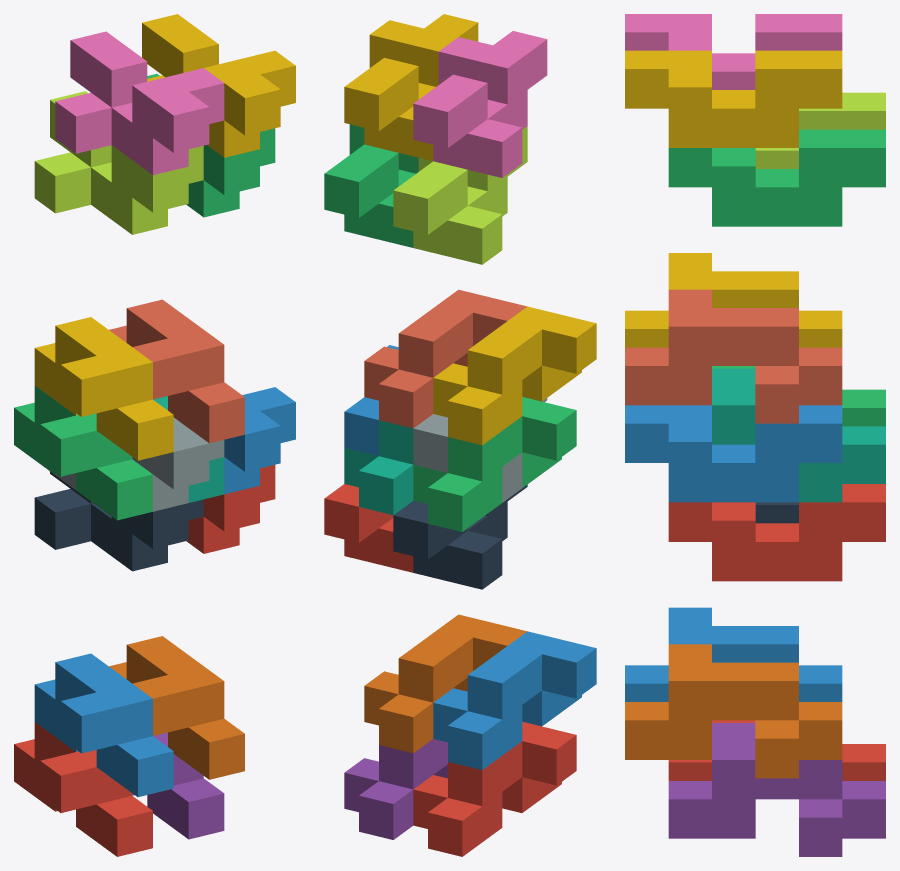
Rendered from tiling.obj.
The picture shows the model from 3 angles, left to right: view 1: azimuth 30°, elevation 25°; view 2: azimuth 150°, elevation 25°; view 3: azimuth 270°, elevation 25°; orthographic projection. The views are drawn at different scales.
Visible parts, largest first — view 1: copy_2_domain_4, copy_1_domain_2, copy_1_domain_4, copy_2_domain_8, copy_1_domain_6, copy_1_domain_8, copy_2_domain_3, copy_1_domain_1, copy_1_domain_3, copy_2_domain_1, copy_2_domain_6, copy_2_domain_7 (+4 smaller); view 2: copy_2_domain_4, copy_1_domain_4, copy_1_domain_2, copy_1_domain_1, copy_1_domain_3, copy_2_domain_8, copy_1_domain_8, copy_1_domain_6, copy_2_domain_3, copy_2_domain_1, copy_2_domain_7, copy_1_domain_5 (+4 smaller); view 3: copy_1_domain_8, copy_1_domain_6, copy_2_domain_8, copy_2_domain_6, copy_1_domain_5, copy_2_domain_7, copy_2_domain_5, copy_1_domain_4, copy_1_domain_2, copy_2_domain_4, copy_1_domain_7, copy_2_domain_3 (+3 smaller).
Boxes of the visible parts, box(x1,y1,x2,y2) form: copy_2_domain_4: box(55, 31, 224, 175); copy_1_domain_2: box(34, 653, 173, 797); copy_1_domain_4: box(34, 317, 173, 460); copy_2_domain_8: box(142, 14, 295, 157); copy_1_domain_6: box(109, 636, 244, 779); copy_1_domain_8: box(109, 299, 244, 443); copy_2_domain_3: box(34, 91, 203, 234); copy_1_domain_1: box(14, 722, 152, 856); copy_1_domain_3: box(14, 385, 152, 520); copy_2_domain_1: box(34, 471, 203, 571); copy_2_domain_6: box(224, 387, 295, 494); copy_2_domain_7: box(147, 73, 275, 217); copy_2_domain_4: box(413, 31, 547, 177); copy_1_domain_4: box(433, 306, 596, 445); copy_1_domain_2: box(433, 631, 596, 769); copy_1_domain_1: box(413, 721, 576, 856); copy_1_domain_3: box(413, 397, 576, 531); copy_2_domain_8: box(344, 14, 478, 160); copy_1_domain_8: box(364, 289, 527, 428); copy_1_domain_6: box(364, 614, 526, 753); copy_2_domain_3: box(393, 126, 527, 264); copy_2_domain_1: box(393, 484, 527, 589); copy_2_domain_7: box(324, 124, 418, 247); copy_1_domain_5: box(344, 739, 447, 839); copy_1_domain_8: box(625, 289, 842, 423); copy_1_domain_6: box(625, 644, 842, 778); copy_2_domain_8: box(625, 50, 842, 147); copy_2_domain_6: box(625, 405, 842, 502); copy_1_domain_5: box(668, 723, 885, 856); copy_2_domain_7: box(668, 129, 885, 226); copy_2_domain_5: box(668, 484, 885, 581); copy_1_domain_4: box(625, 253, 842, 347); copy_1_domain_2: box(625, 607, 842, 701); copy_2_domain_4: box(625, 14, 842, 89); copy_1_domain_7: box(712, 368, 885, 502); copy_2_domain_3: box(755, 92, 885, 168).
Bounding box in the file's own units: 6 × 20 × 6.
